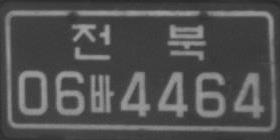0: (17, 69, 49, 116)
4: (233, 71, 265, 118), (156, 71, 188, 117), (120, 70, 150, 117)
6: (194, 70, 227, 118), (53, 70, 85, 117)
바: (88, 73, 115, 114)
전북_D: (71, 22, 207, 61)
